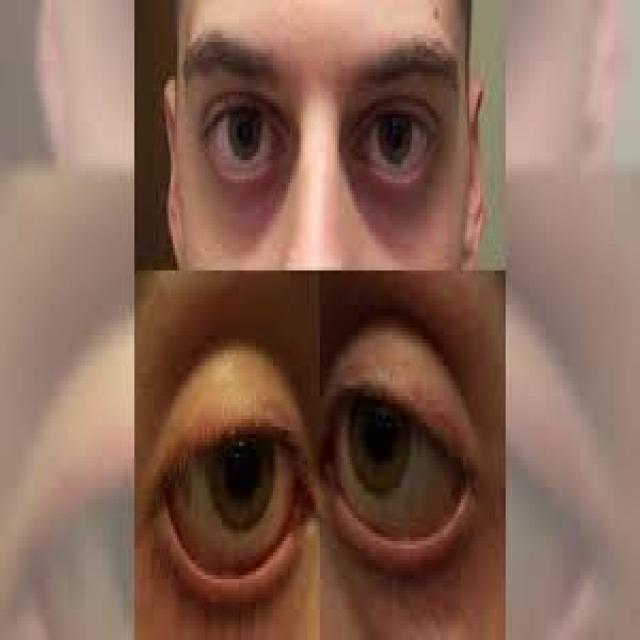Eyes-iris: (346, 381, 414, 501), (209, 429, 276, 532), (225, 94, 262, 165), (378, 106, 415, 176)
